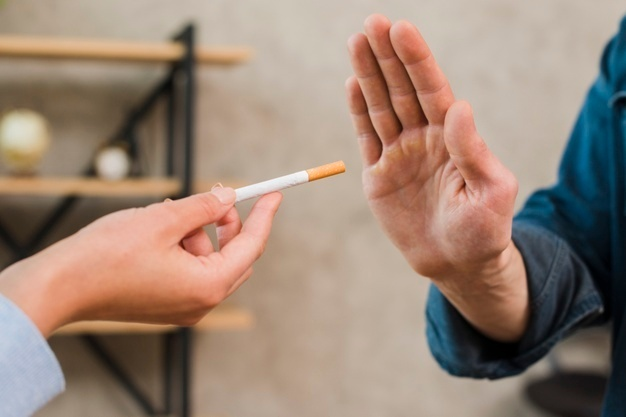sigaretta: (228, 155, 351, 214)
